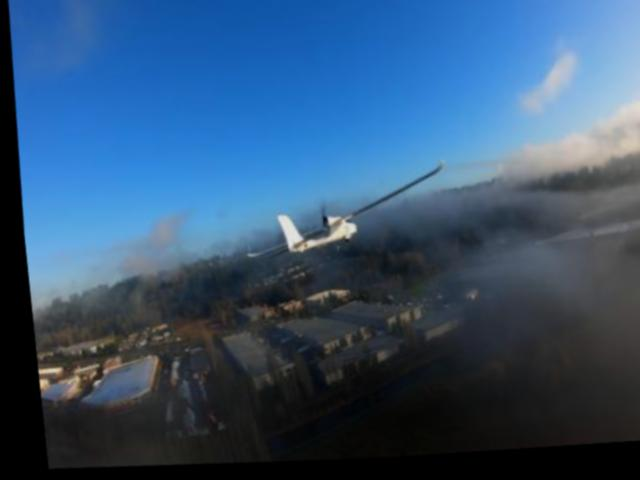uav: (227, 150, 457, 280)
